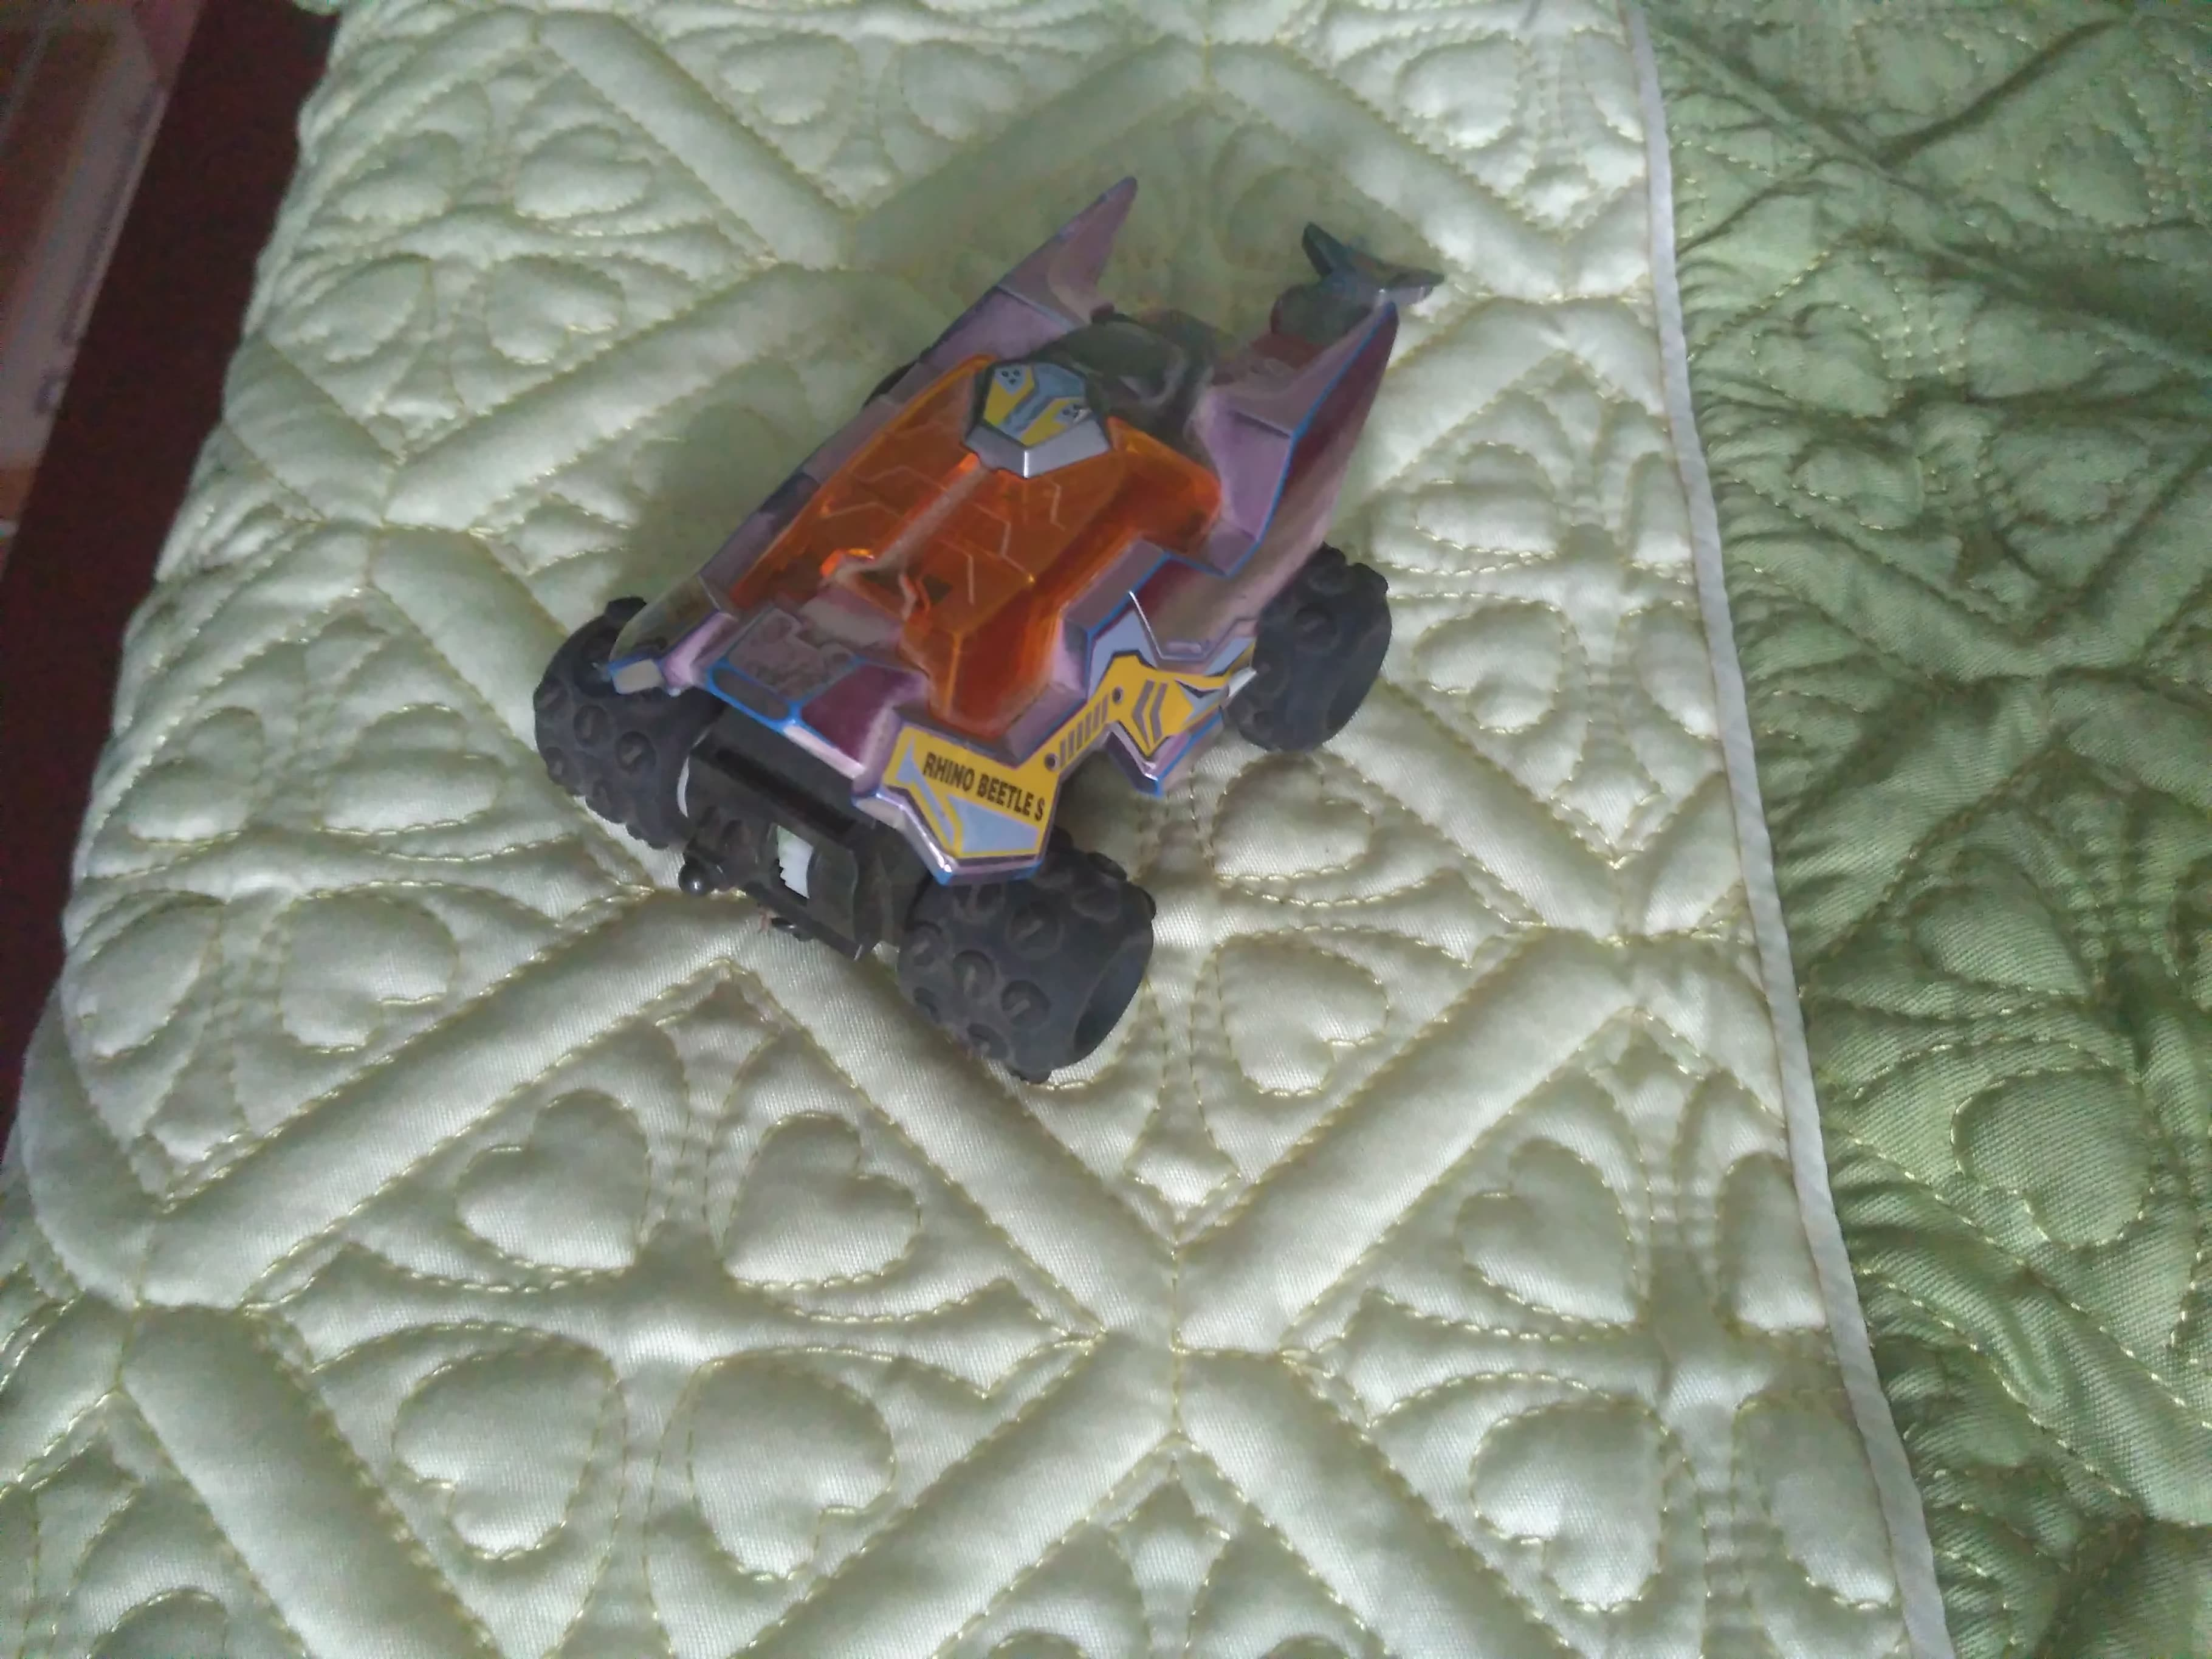rhino: (526, 174, 1453, 1094)
